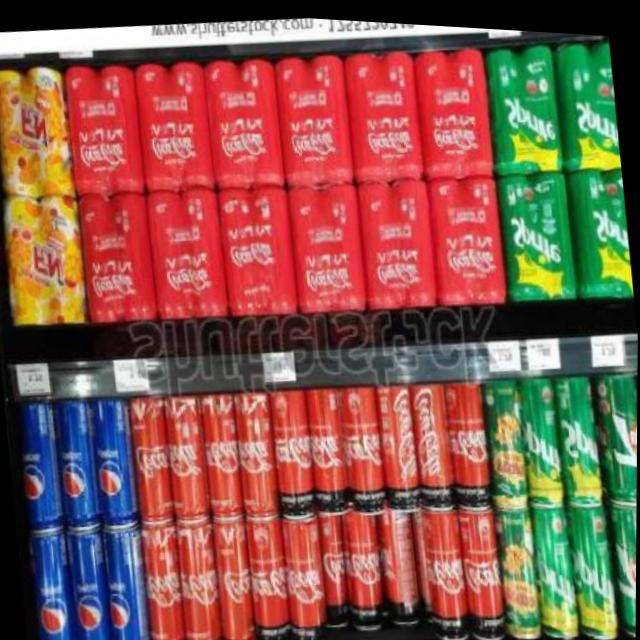Drinks: (354, 170, 438, 311), (424, 167, 508, 308), (285, 174, 369, 313), (61, 56, 145, 195), (495, 161, 579, 300), (146, 181, 229, 320), (341, 42, 424, 181), (217, 179, 301, 316), (132, 55, 216, 191), (203, 51, 287, 187), (271, 47, 355, 183), (482, 34, 566, 170), (412, 40, 495, 176), (77, 187, 156, 325), (565, 157, 635, 296), (552, 34, 621, 166), (12, 389, 67, 533), (529, 496, 584, 637), (457, 499, 510, 639), (566, 497, 619, 637), (516, 366, 570, 502), (421, 501, 472, 640), (555, 365, 605, 502), (53, 393, 103, 528), (89, 390, 139, 525), (591, 360, 638, 501), (303, 381, 353, 512), (338, 379, 388, 510), (174, 512, 225, 640), (267, 384, 316, 517), (210, 510, 260, 640), (162, 389, 212, 518), (137, 514, 188, 640), (232, 386, 281, 517), (374, 376, 423, 506), (444, 373, 493, 503), (245, 513, 295, 640), (374, 501, 425, 625), (128, 391, 177, 520), (408, 375, 457, 504), (280, 514, 330, 640), (198, 387, 247, 515), (27, 526, 82, 640), (101, 519, 152, 640), (66, 522, 117, 640), (340, 504, 387, 629), (316, 507, 354, 625), (606, 494, 637, 634)
